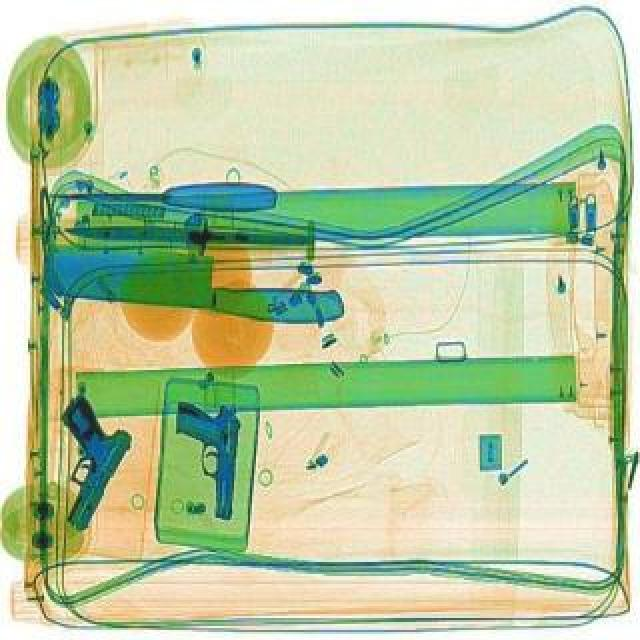gun: (14, 388, 142, 532), (160, 396, 248, 518)
knife: (38, 238, 348, 322), (62, 220, 306, 248), (50, 180, 276, 210)
